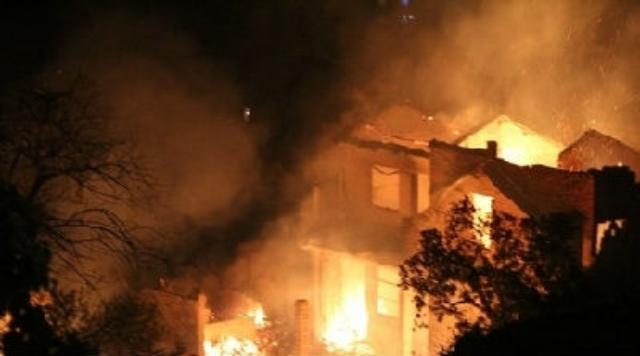fire: (313, 257, 376, 356), (194, 328, 291, 354)
smoke: (133, 34, 613, 269)
